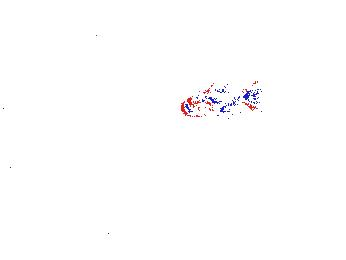red belly glassfish: (180, 80, 261, 118)
